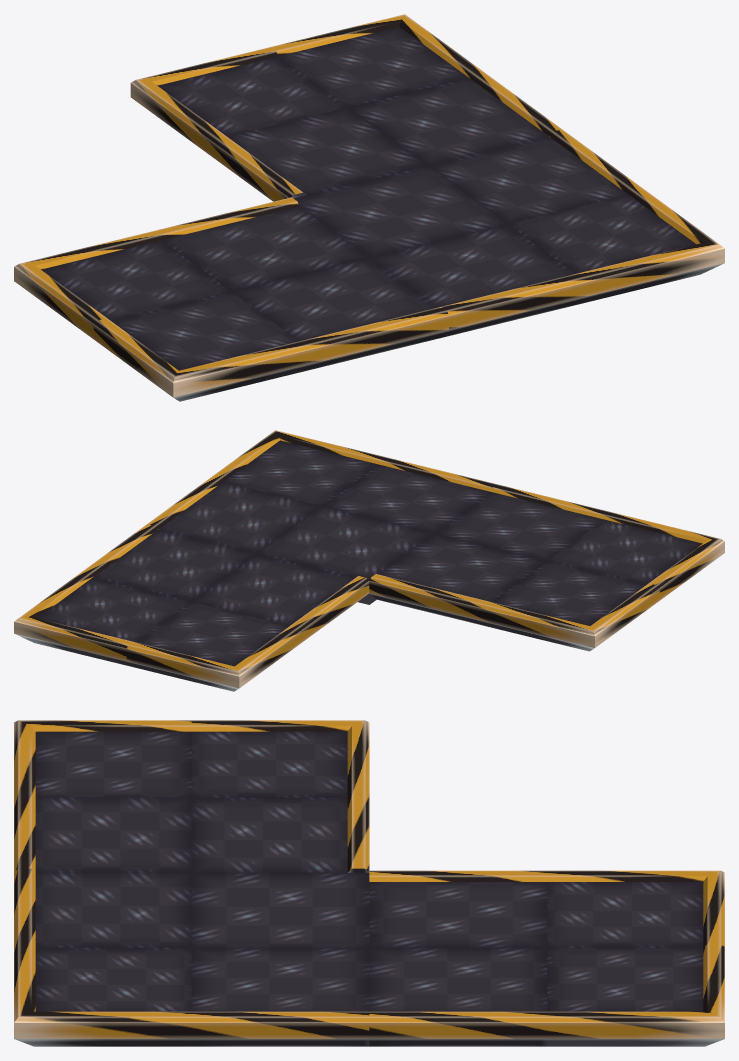
Rendered from LPlataform.fbx.
The picture shows the model from 3 angles, top to bottom: view 1: azimuth 30°, elevation 25°; view 2: azimuth 150°, elevation 25°; view 3: azimuth 270°, elevation 25°; orthographic projection. The views are drawn at different scales.
Visible parts, largest first — view 1: LPlataform; view 2: LPlataform; view 3: LPlataform.
Boxes of the visible parts, x1=… form: LPlataform: x1=14, y1=14, x2=724, y2=401; LPlataform: x1=14, y1=430, x2=724, y2=691; LPlataform: x1=14, y1=720, x2=724, y2=1046.
Bounding box in the file's own units: 400 × 33.23 × 400.
